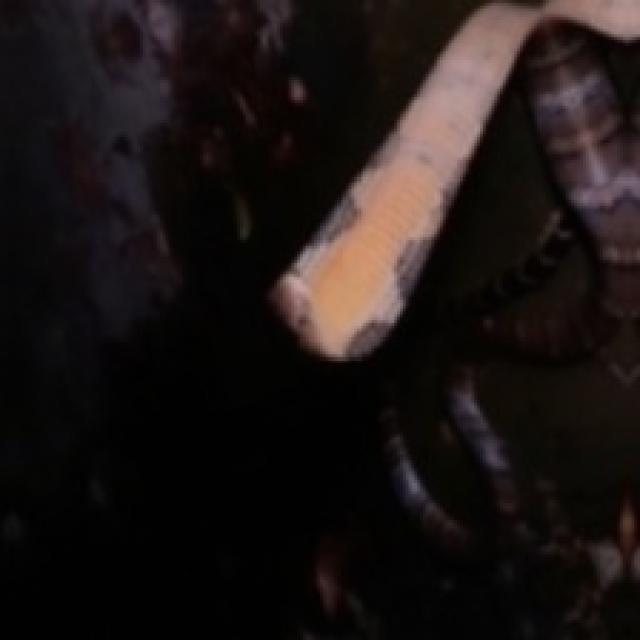king cobra: (271, 0, 637, 540), (463, 243, 620, 369)
